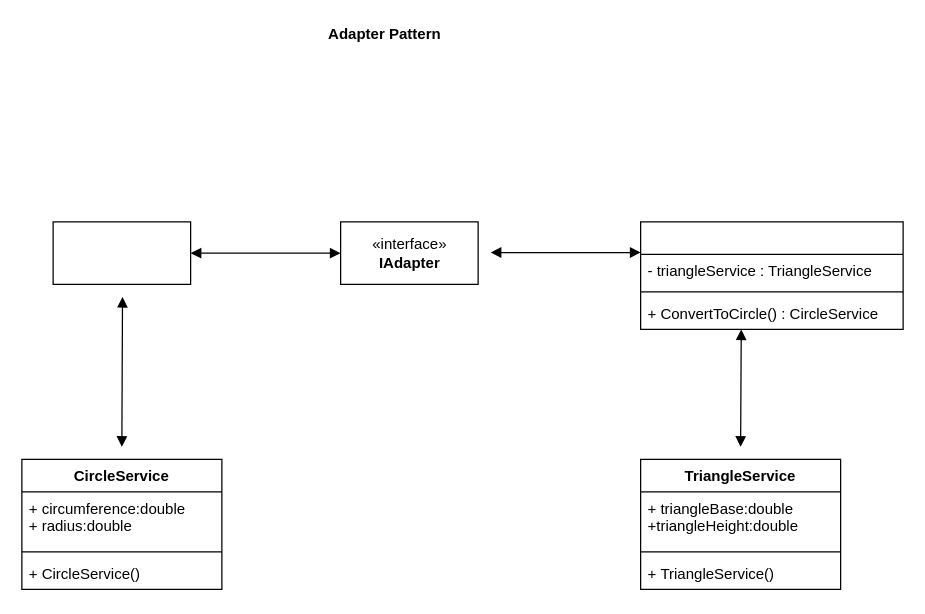
Some shapes in this 925 by 614 pixel diagram are drawn without their labels. Here are the shapes that lost their labels. From the top down, the box of each, then its label:
(52, 221, 191, 284): Client
(639, 221, 903, 329): TriangleToCircleAdapter
